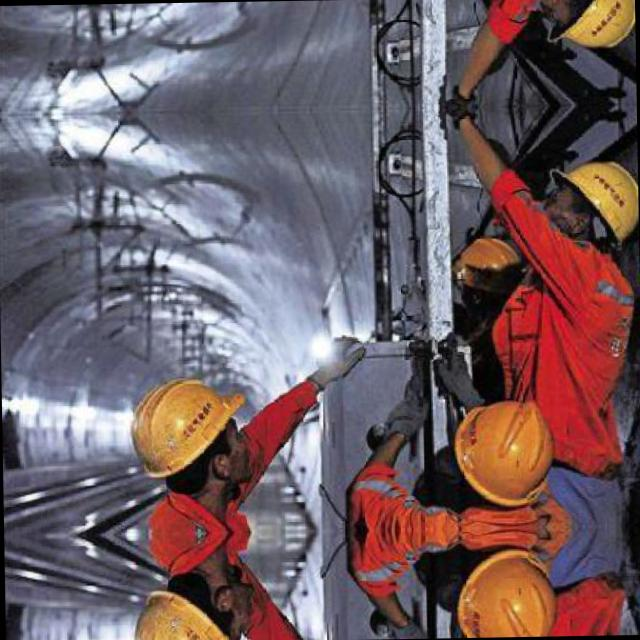helmet: (119, 356, 257, 495), (441, 393, 570, 506), (530, 146, 636, 254), (443, 548, 573, 636), (123, 569, 261, 640), (527, 0, 634, 61), (450, 238, 526, 302)
